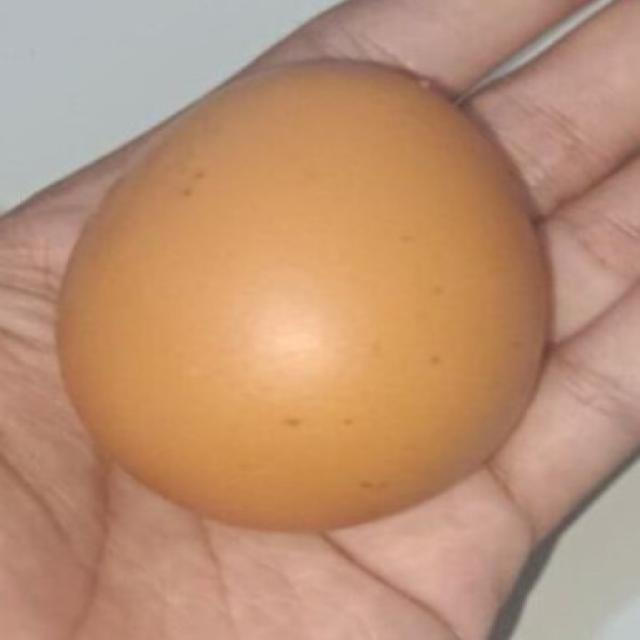unfresh: (72, 61, 546, 522)
